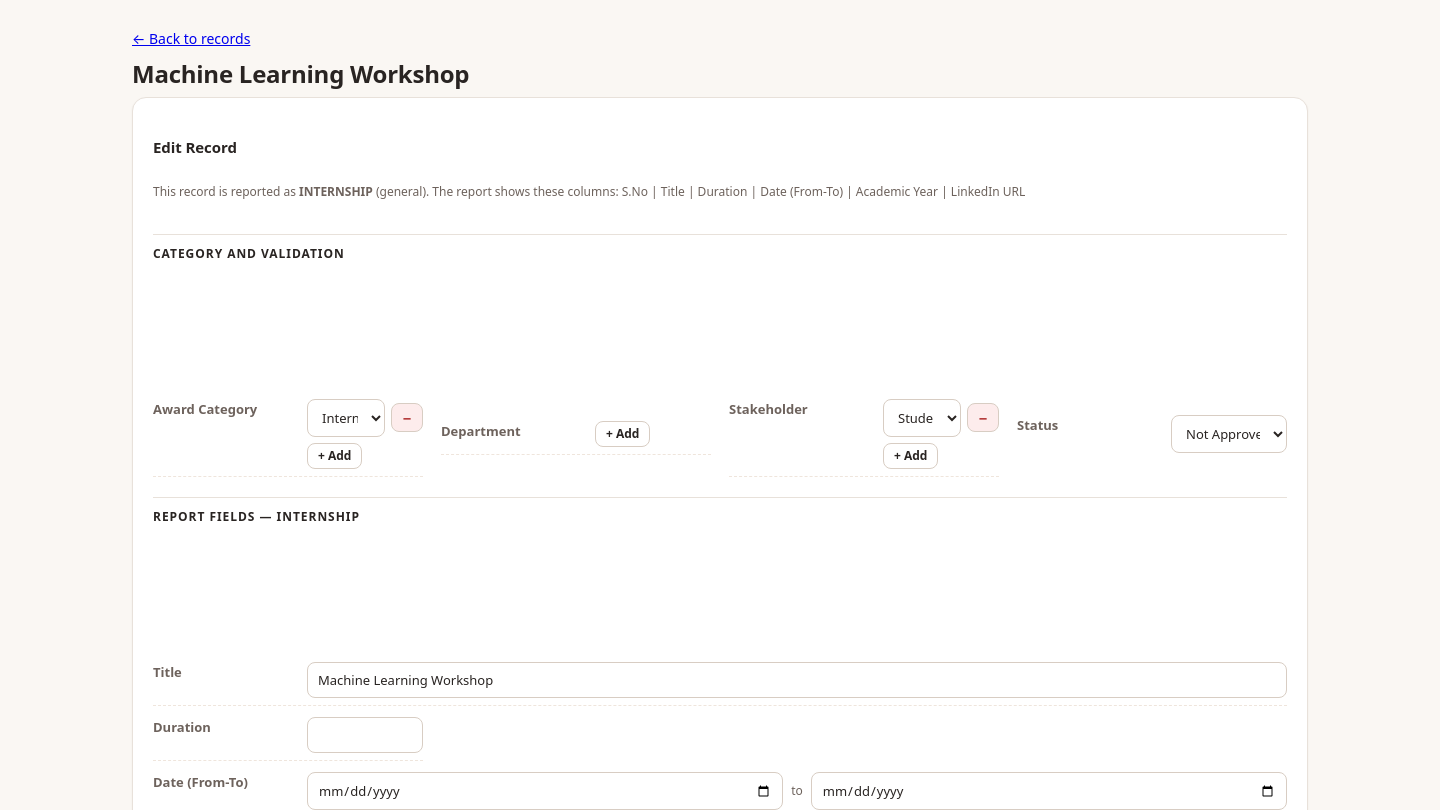
Test: LinkedIn Admin Record Detail › refuses to save an INTERNSHIP range whose From date is after its To date
Expected: the date field named "Date (From-To) from" is shown, [307, 772, 783, 809]
In the date field named "Date (From-To) to": (1049, 791) [811, 772, 1287, 809], type "2026-01-12"
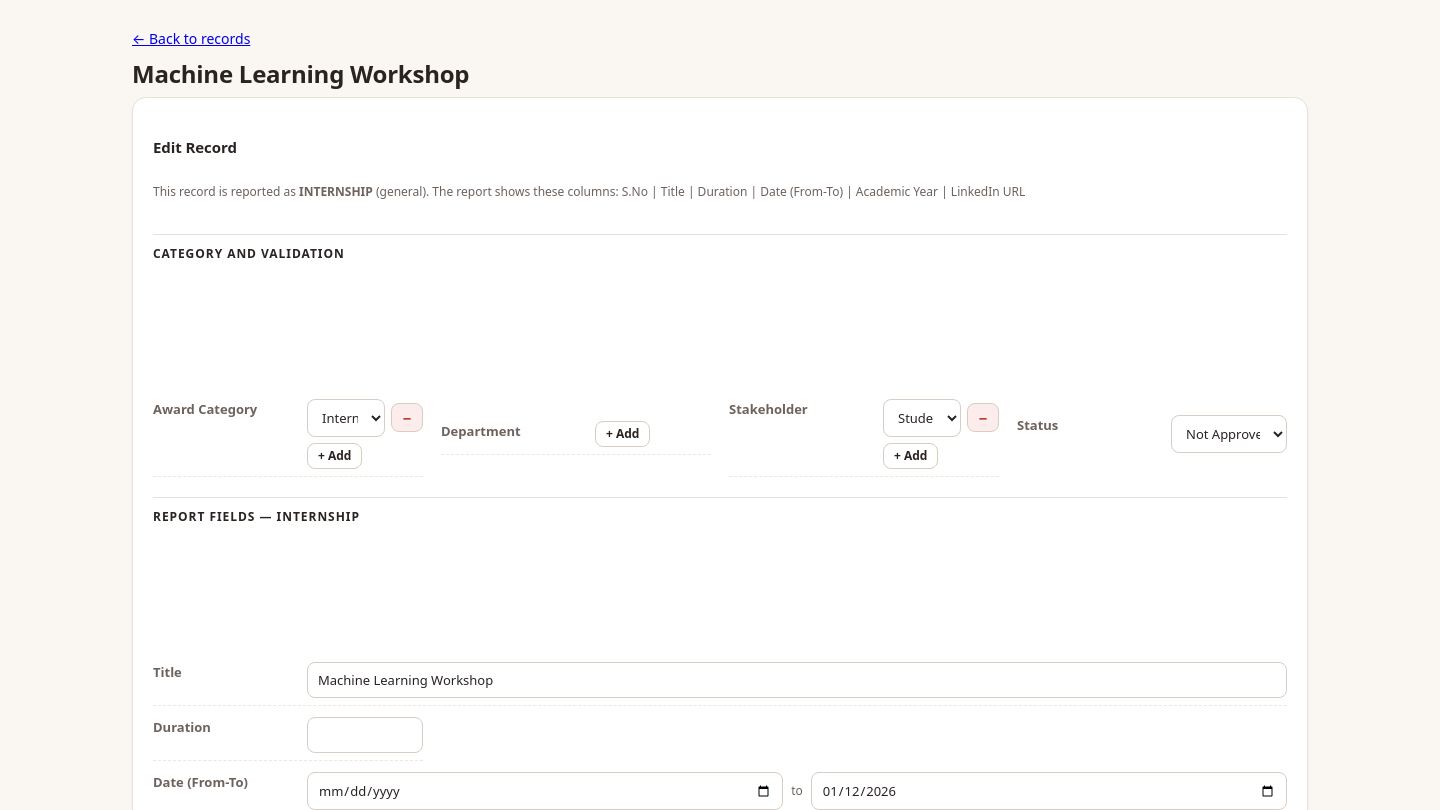
In the date field named "Date (From-To) from": (545, 791) [307, 772, 783, 809], type "2026-01-20"
(page scrolled)
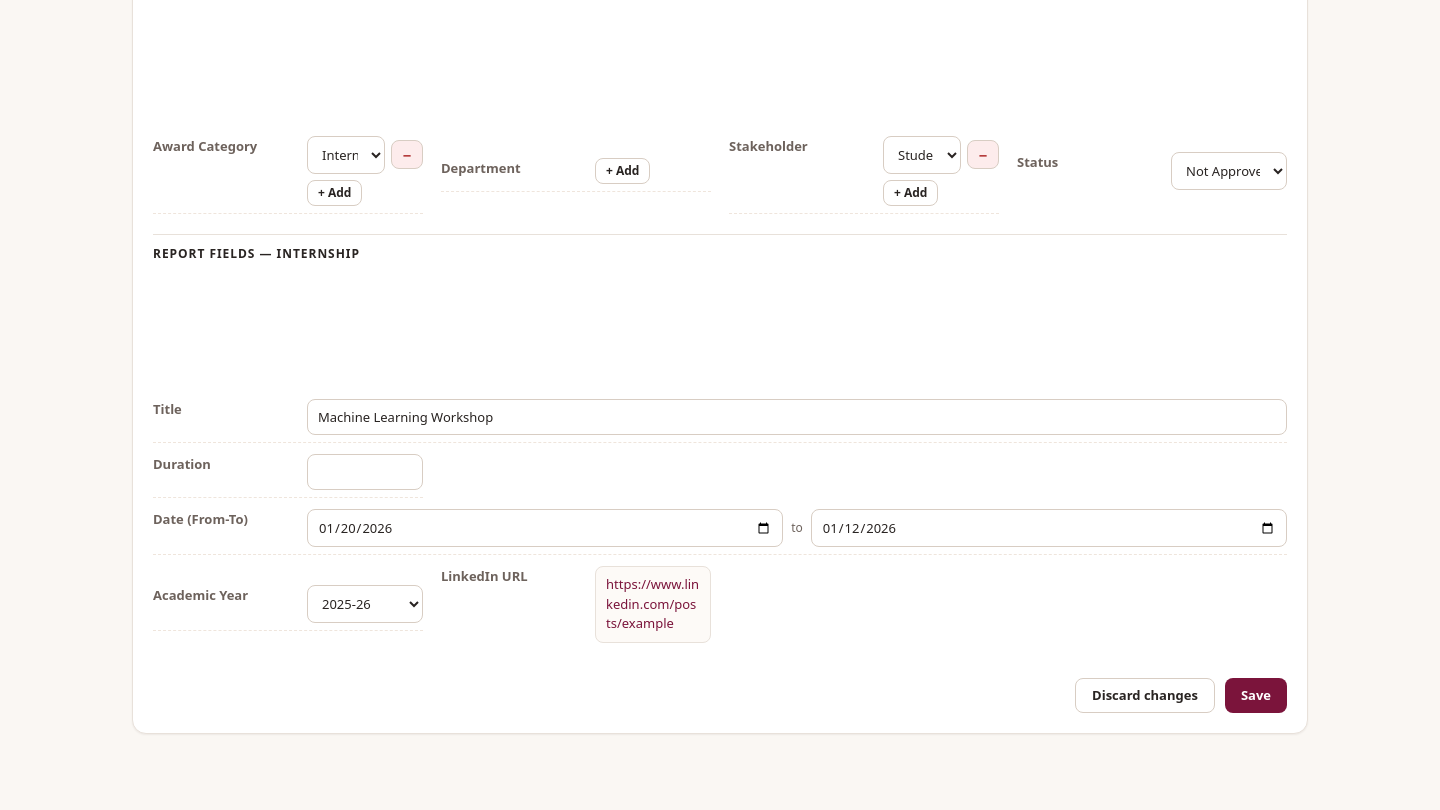
Click the button "Save": click(1256, 695) [1225, 678, 1287, 713]
(page scrolled)
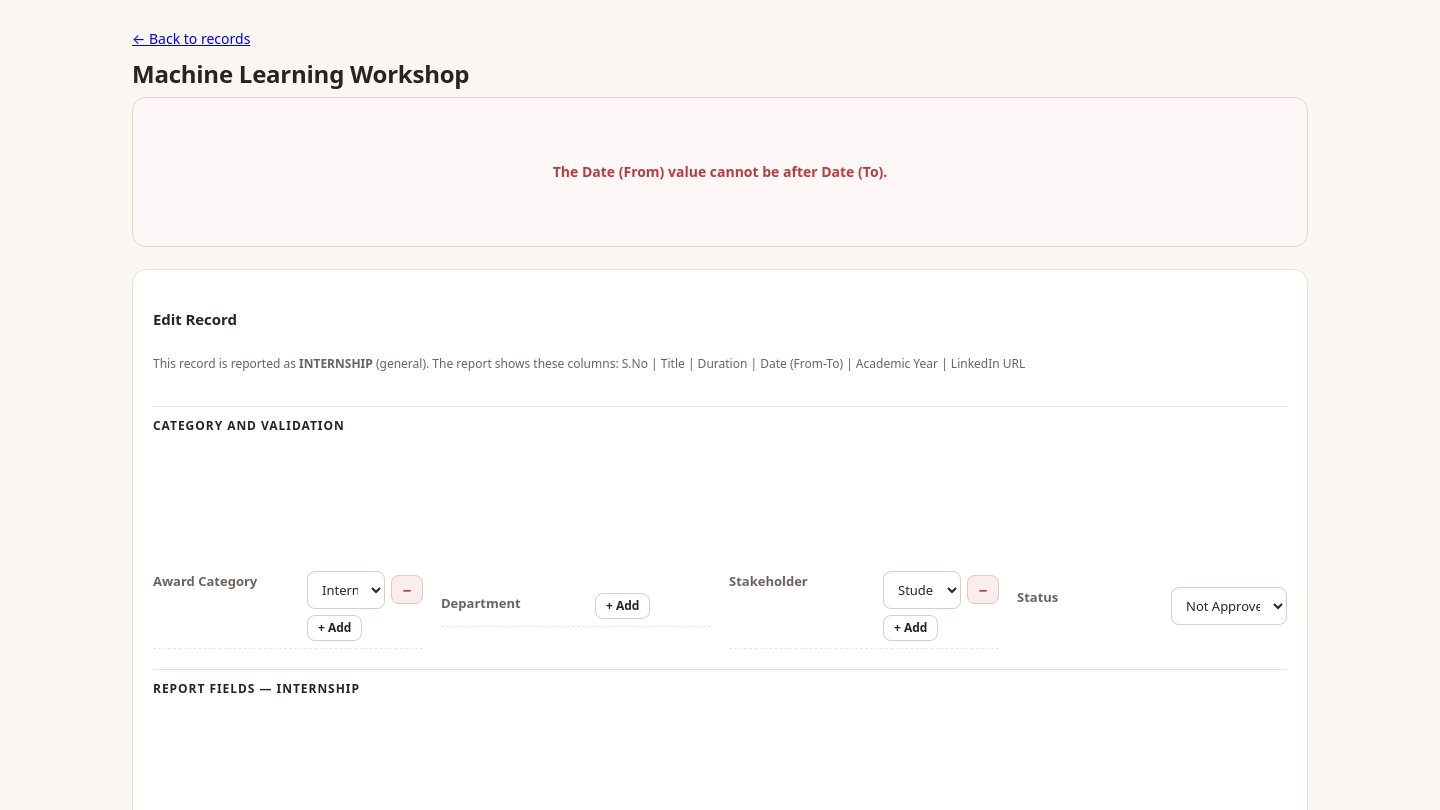
Now the text "The Date (From) value cannot be after Date (To)." is shown, box [132, 97, 1308, 247]
